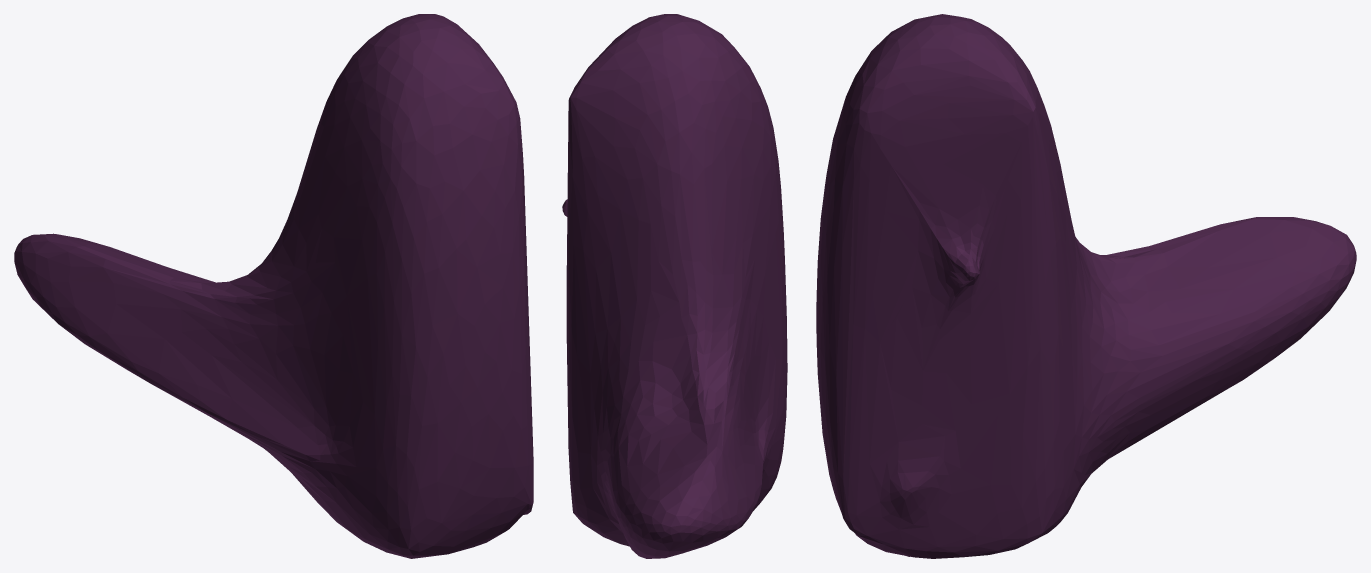
3 views of the same model, side by side, from view 1: azimuth 30°, elevation 25°; view 2: azimuth 150°, elevation 25°; view 3: azimuth 270°, elevation 25° (orthographic). The views are drawn at different scales.
Parts seen in each view (by area): view 1: 893_Cube.3604; view 2: 893_Cube.3604; view 3: 893_Cube.3604.
Part boxes in pixels (x1,y1,x2,y2): 893_Cube.3604: (14, 14, 533, 558); 893_Cube.3604: (562, 14, 787, 558); 893_Cube.3604: (816, 14, 1356, 558).
Size of the model in its own units: 7.56 by 11.5 by 10.83.
